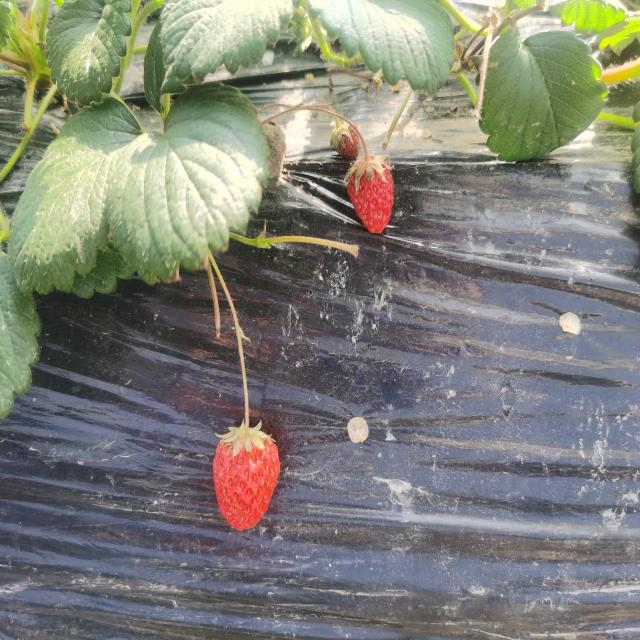stem: (350, 123, 371, 163), (243, 377, 250, 440)
strawberry: (213, 429, 281, 531), (347, 155, 394, 233)
